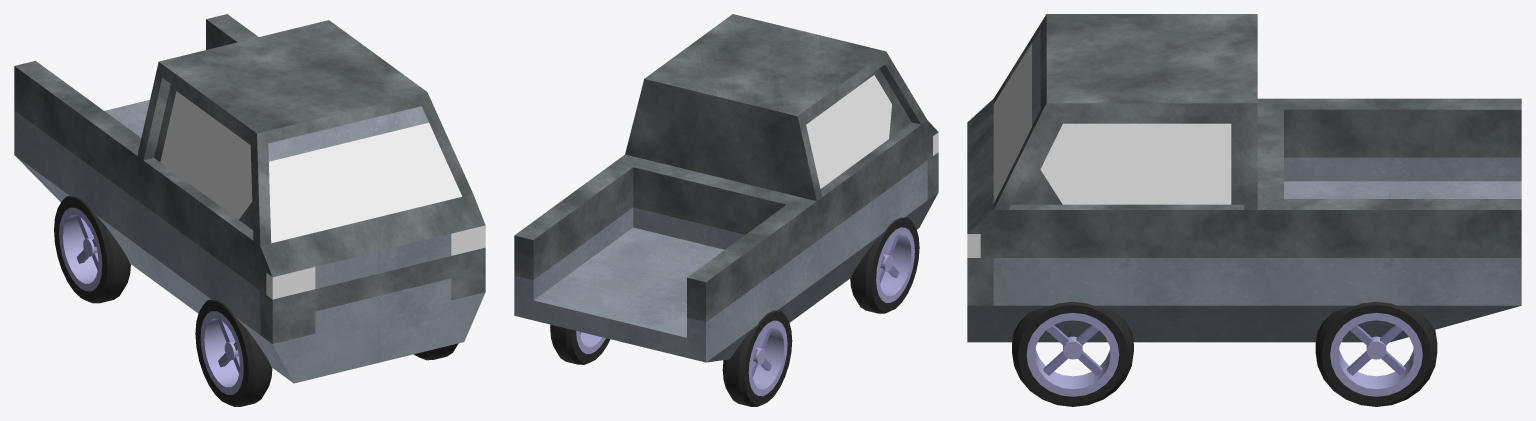
File: Car2.fbx
The picture shows the model from 3 angles, left to right: view 1: azimuth 30°, elevation 25°; view 2: azimuth 150°, elevation 25°; view 3: azimuth 270°, elevation 25°; orthographic projection. The views are drawn at different scales.
Parts seen in each view (by area): view 1: body_topSteep, body_frontTruckFlat, body_backBed, body_standard, wheel_cycleSpokes (×2); view 2: body_backBed, body_topSteep, body_standard, wheel_cycleSpokes (×3), body_frontTruckFlat; view 3: body_backBed, body_topSteep, body_standard, wheel_cycleSpokes (×2), body_frontTruckFlat.
Part boxes in pixels (x1,y1,x2,y2): body_topSteep: [137, 20, 472, 245]; body_frontTruckFlat: [260, 194, 485, 383]; body_backBed: [14, 14, 258, 283]; body_standard: [137, 156, 280, 373]; wheel_cycleSpokes (×2): [54, 196, 272, 406]; body_backBed: [514, 154, 816, 362]; body_topSteep: [625, 14, 927, 200]; body_standard: [798, 120, 927, 316]; wheel_cycleSpokes (×3): [550, 217, 919, 406]; body_frontTruckFlat: [914, 120, 938, 229]; body_backBed: [1257, 98, 1521, 342]; body_topSteep: [993, 14, 1257, 209]; body_standard: [993, 204, 1257, 342]; wheel_cycleSpokes (×2): [1012, 301, 1437, 406]; body_frontTruckFlat: [967, 99, 993, 342].
Size of the model in its own units: 15.25 by 18.47 by 31.5.
